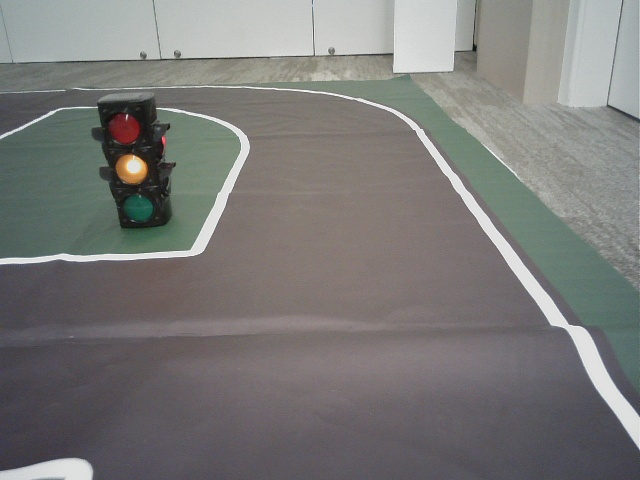yellow: (105, 106, 154, 222)
